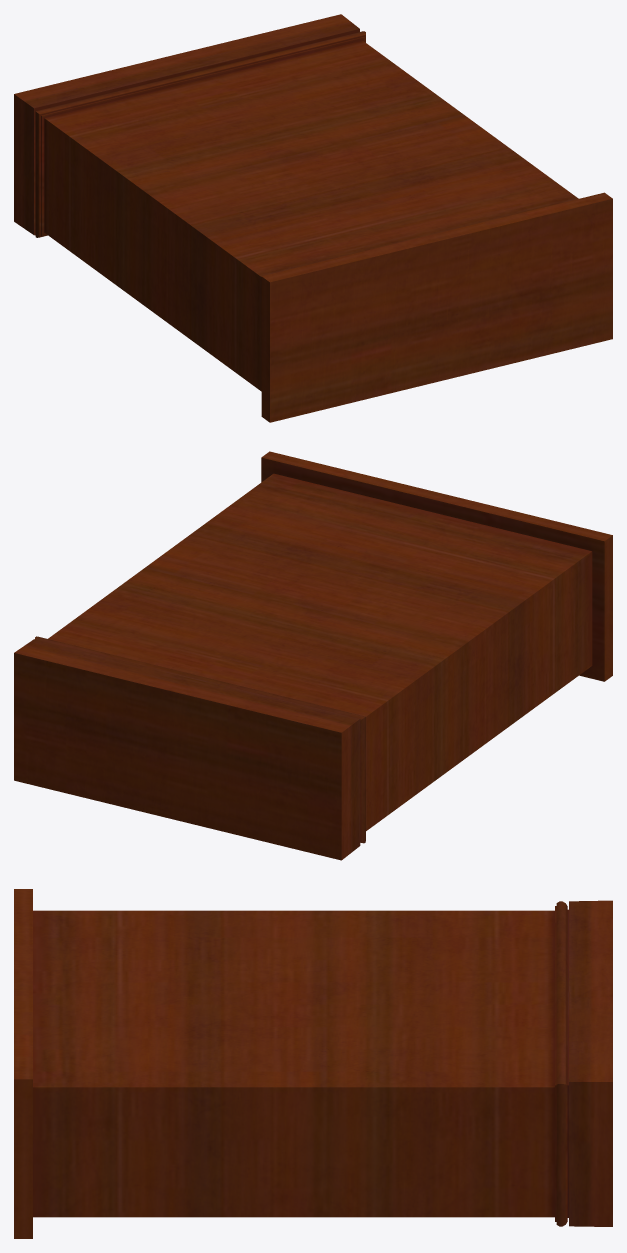
File: bookshelf.obj
3 renders of one model, top to bottom at view 1: azimuth 30°, elevation 25°; view 2: azimuth 150°, elevation 25°; view 3: azimuth 270°, elevation 25°, orthographic. The views are drawn at different scales.
Visible parts, largest first — view 1: bookshelf; view 2: bookshelf; view 3: bookshelf.
Boxes of the visible parts, x1,y1,x2,y2 form: bookshelf: (14, 14, 612, 422); bookshelf: (14, 451, 612, 860); bookshelf: (14, 889, 612, 1238).
Size of the model in its own units: 1.12 by 0.4382 by 1.49.
